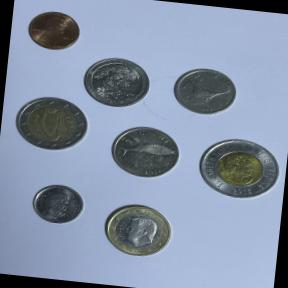1 Euro-B: (100, 198, 180, 266)
2 Euro-B: (9, 92, 96, 158)
Canada-10cent-B: (28, 179, 92, 234)
Canada-2Dollar-B: (192, 132, 288, 209)
Croatia-2Kune-B: (106, 123, 186, 186)
US-1cent-B: (23, 8, 85, 58)
US-25cent-B: (78, 54, 156, 114)
